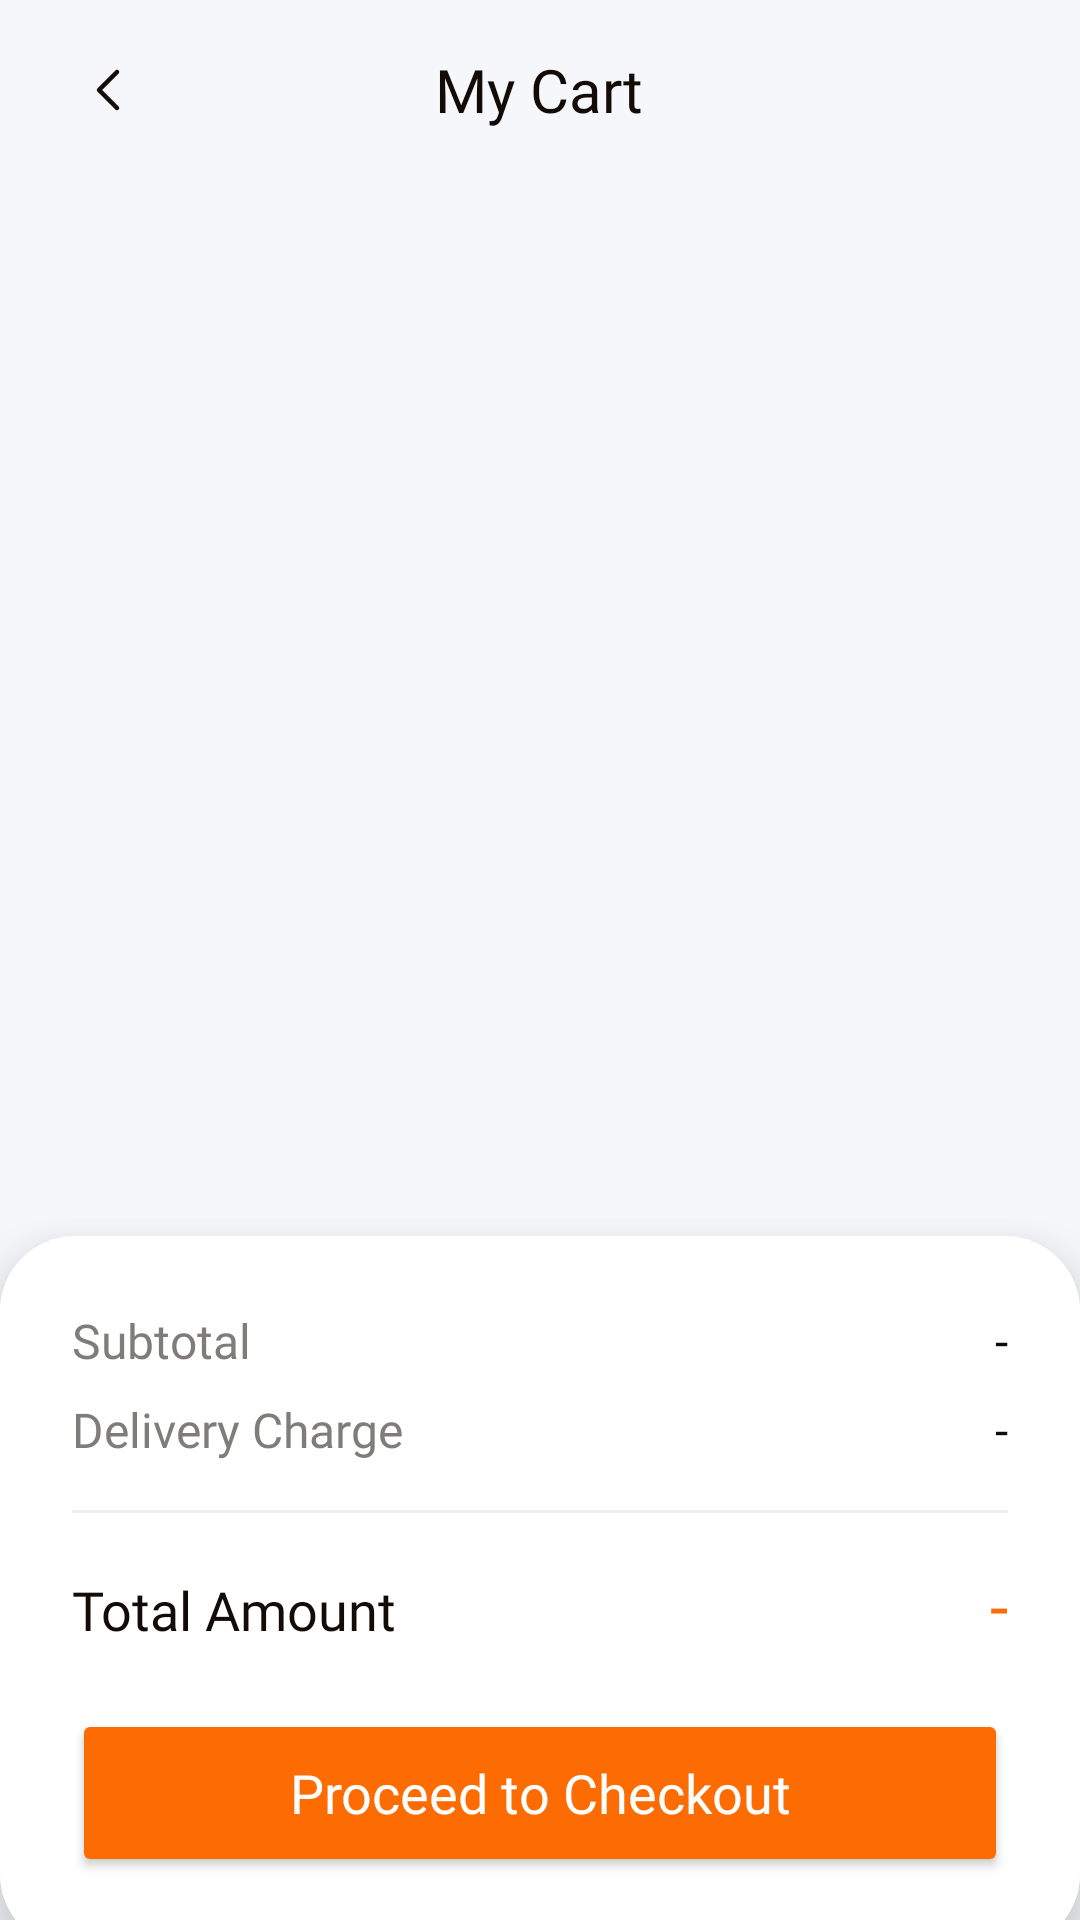

Where to tap for icons on this 1080w x 1920h app screen, as (x=x, y=y):
Back: (x=108, y=90)
